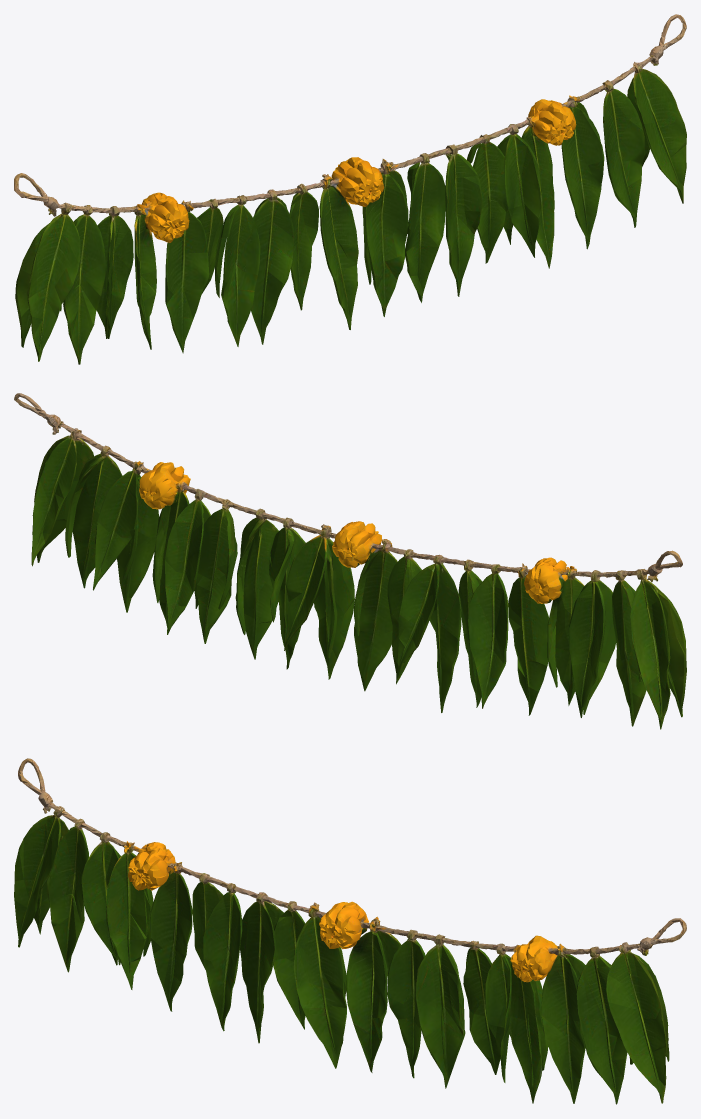
The model's file is w4thoranam.glb.
The picture shows the model from 3 angles, top to bottom: view 1: azimuth 30°, elevation 25°; view 2: azimuth 150°, elevation 25°; view 3: azimuth 330°, elevation 25°; orthographic projection.
Parts seen in each view (by area): view 1: output_unwrapped; view 2: output_unwrapped; view 3: output_unwrapped.
Part boxes in pixels (x1,y1,x2,y2): output_unwrapped: [14, 14, 686, 364]; output_unwrapped: [14, 393, 686, 729]; output_unwrapped: [14, 758, 686, 1104].
Bounding box in the file's own units: 1 × 0.3226 × 0.0933.
Materials: 1 (1 with a texture image).
